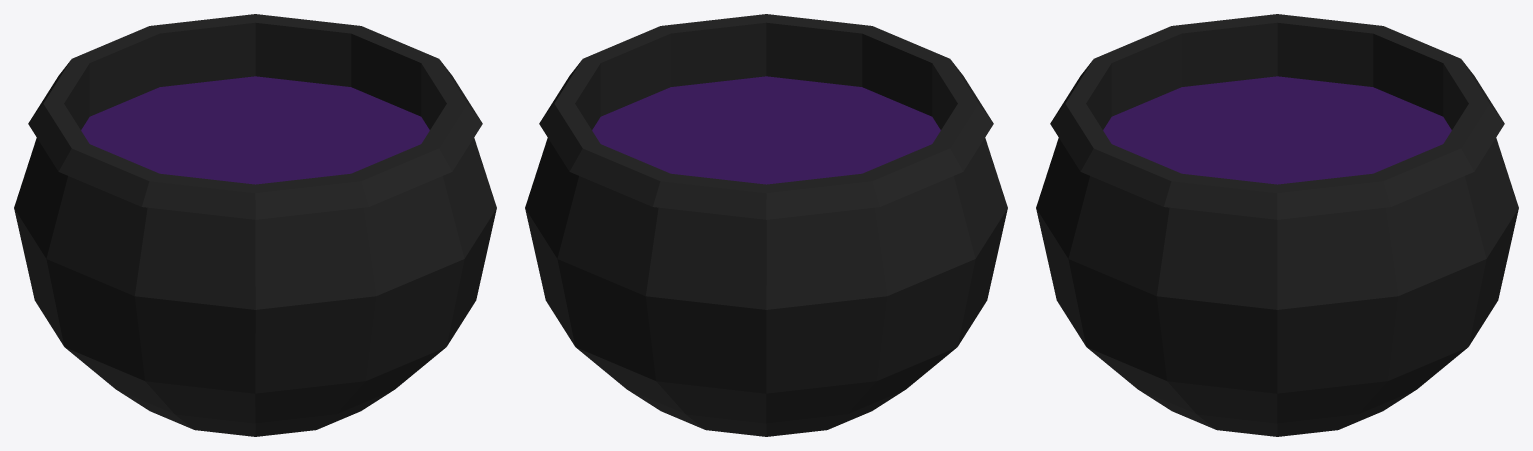
The model's file is cauldron.glb.
3 renders of one model, left to right at view 1: azimuth 30°, elevation 25°; view 2: azimuth 150°, elevation 25°; view 3: azimuth 270°, elevation 25°, orthographic.
Visible parts, largest first — view 1: Cauldron_Circle-Mesh_1, Cauldron_Circle-Mesh; view 2: Cauldron_Circle-Mesh_1, Cauldron_Circle-Mesh; view 3: Cauldron_Circle-Mesh_1, Cauldron_Circle-Mesh.
Boxes of the visible parts, bbox=[...] form: Cauldron_Circle-Mesh_1: bbox=[14, 14, 496, 436]; Cauldron_Circle-Mesh: bbox=[81, 76, 429, 184]; Cauldron_Circle-Mesh_1: bbox=[525, 14, 1007, 436]; Cauldron_Circle-Mesh: bbox=[592, 76, 940, 184]; Cauldron_Circle-Mesh_1: bbox=[1036, 14, 1518, 436]; Cauldron_Circle-Mesh: bbox=[1103, 76, 1451, 184].
Bounding box in the file's own units: 1.79 × 1.15 × 1.79.
